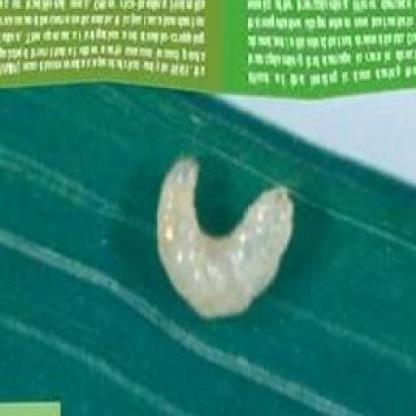whorl-maggot: (154, 154, 298, 331)
